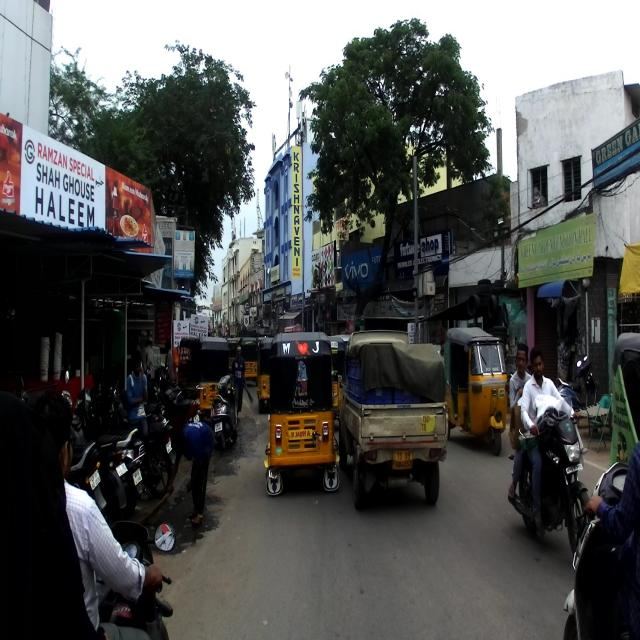autorickshaw: (264, 330, 340, 498), (444, 326, 508, 455), (176, 334, 230, 428)
motorcycle: (508, 391, 596, 559), (53, 423, 105, 510)
scooter: (97, 423, 149, 502), (210, 371, 238, 454)
truck: (339, 329, 448, 512)
